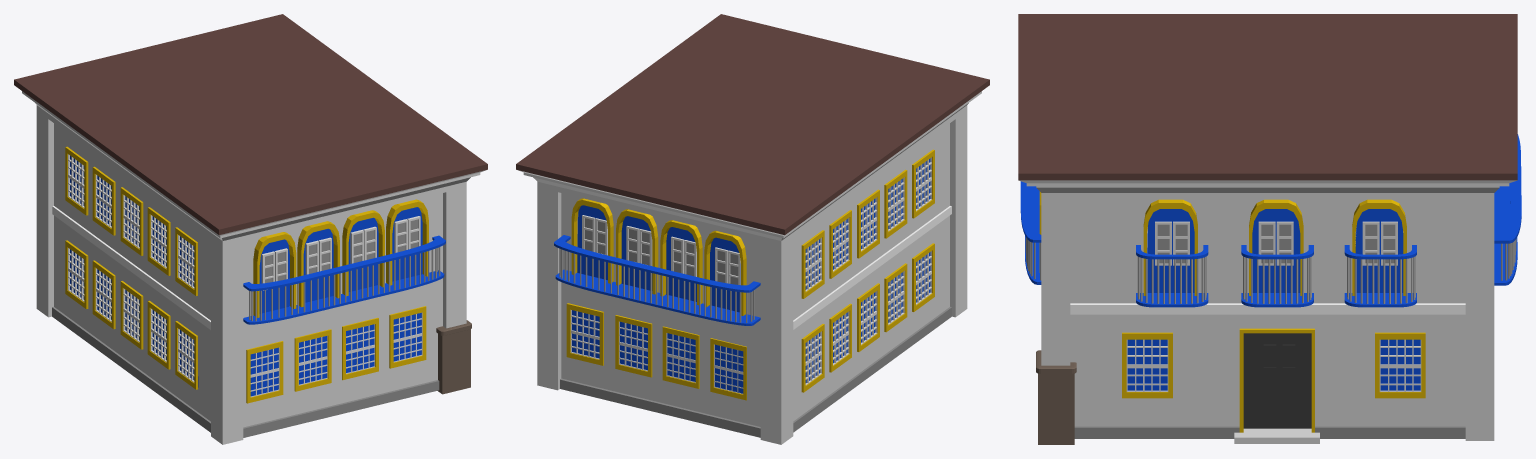
The picture shows the model from 3 angles, left to right: view 1: azimuth 30°, elevation 25°; view 2: azimuth 150°, elevation 25°; view 3: azimuth 270°, elevation 25°; orthographic projection. The views are drawn at different scales.
Parts seen in each view (by area): view 1: Cube.005, Cylinder, Cube.036, Cube.042, Cube.044, Cube.043, Cube.045, Cube.001, Cube.070, Cube.039, Cube.040, Cube.037 (+11 smaller); view 2: Cube.005, Cylinder.003, Cube.071, Cube.103, Cube.001, Cube.076, Cube.084, Cube.074, Cube.077, Cube.091, Cube.073, Cube.075 (+11 smaller); view 3: Cube.005, Cube.117, Cube, Cylinder.002, Cylinder.011, Cylinder.001, Cube.071, Cube.010, Cube.007, Cube.004, Cube.003, Cube.006 (+8 smaller).
Part boxes in pixels (bbox=[...]): Cube.005: bbox=[14, 14, 487, 444]; Cylinder: bbox=[249, 247, 440, 321]; Cube.036: bbox=[243, 270, 444, 324]; Cube.042: bbox=[297, 221, 339, 307]; Cube.044: bbox=[253, 232, 296, 317]; Cube.043: bbox=[342, 210, 384, 296]; Cube.045: bbox=[386, 199, 428, 285]; Cube.001: bbox=[52, 206, 210, 329]; Cube.070: bbox=[243, 235, 445, 291]; Cube.039: bbox=[389, 306, 426, 368]; Cube.040: bbox=[246, 341, 283, 403]; Cube.037: bbox=[294, 329, 331, 391]; Cube.005: bbox=[516, 14, 989, 444]; Cylinder.003: bbox=[559, 248, 754, 322]; Cube.071: bbox=[555, 269, 760, 325]; Cube.103: bbox=[554, 235, 760, 292]; Cube.001: bbox=[793, 206, 951, 329]; Cube.076: bbox=[571, 198, 613, 283]; Cube.084: bbox=[660, 220, 702, 305]; Cube.074: bbox=[566, 303, 603, 365]; Cube.077: bbox=[616, 209, 658, 294]; Cube.091: bbox=[704, 230, 746, 315]; Cube.073: bbox=[615, 315, 652, 377]; Cube.075: bbox=[662, 326, 699, 388]; Cube.005: bbox=[1018, 14, 1517, 444]; Cube.117: bbox=[1243, 333, 1311, 428]; Cube: bbox=[1070, 303, 1465, 314]; Cylinder.002: bbox=[1347, 256, 1415, 303]; Cylinder.011: bbox=[1137, 256, 1206, 303]; Cylinder.001: bbox=[1243, 256, 1311, 303]; Cube.071: bbox=[1494, 183, 1517, 285]; Cube.010: bbox=[1241, 245, 1313, 307]; Cube.007: bbox=[1344, 245, 1416, 307]; Cube.004: bbox=[1136, 245, 1208, 307]; Cube.003: bbox=[1122, 332, 1172, 398]; Cube.006: bbox=[1375, 332, 1425, 398].
Bounding box in the file's own units: 15.57 × 12.48 × 20.59.
